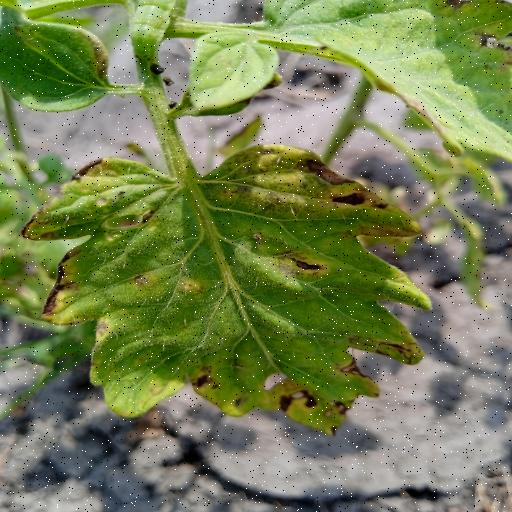Tomato_Brown_Spots: (18, 140, 436, 444)
